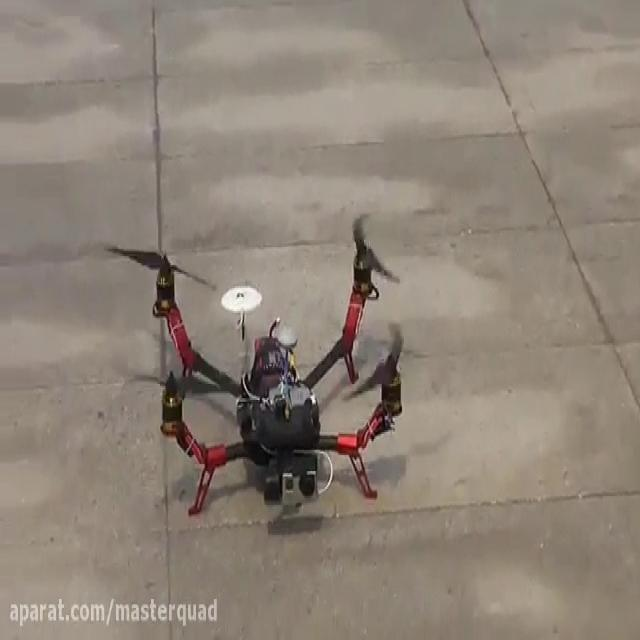drone: (104, 198, 417, 524)
